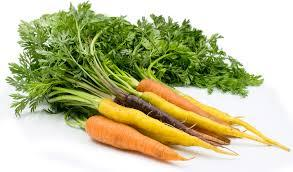Organic: (4, 6, 293, 172)
